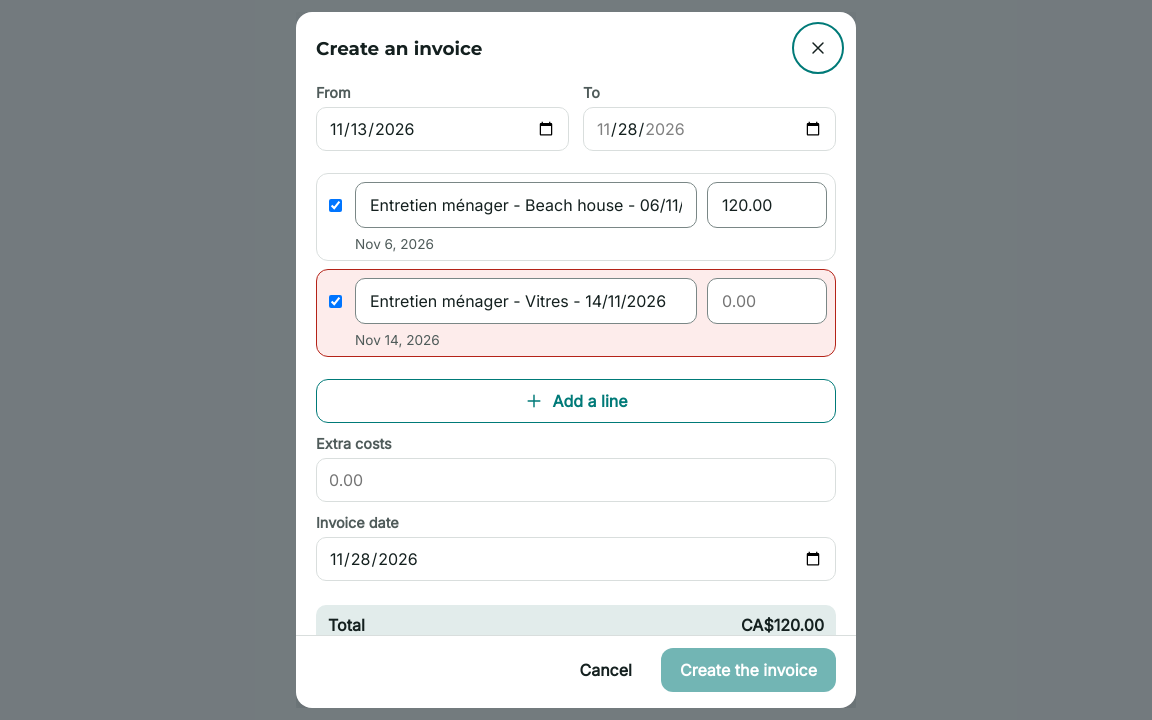
Scenario: BillDialog › takes an unticked line out of the total
Type "80" into the field named "Amount". click: coordinates (767, 301)
box: [707, 278, 827, 324]
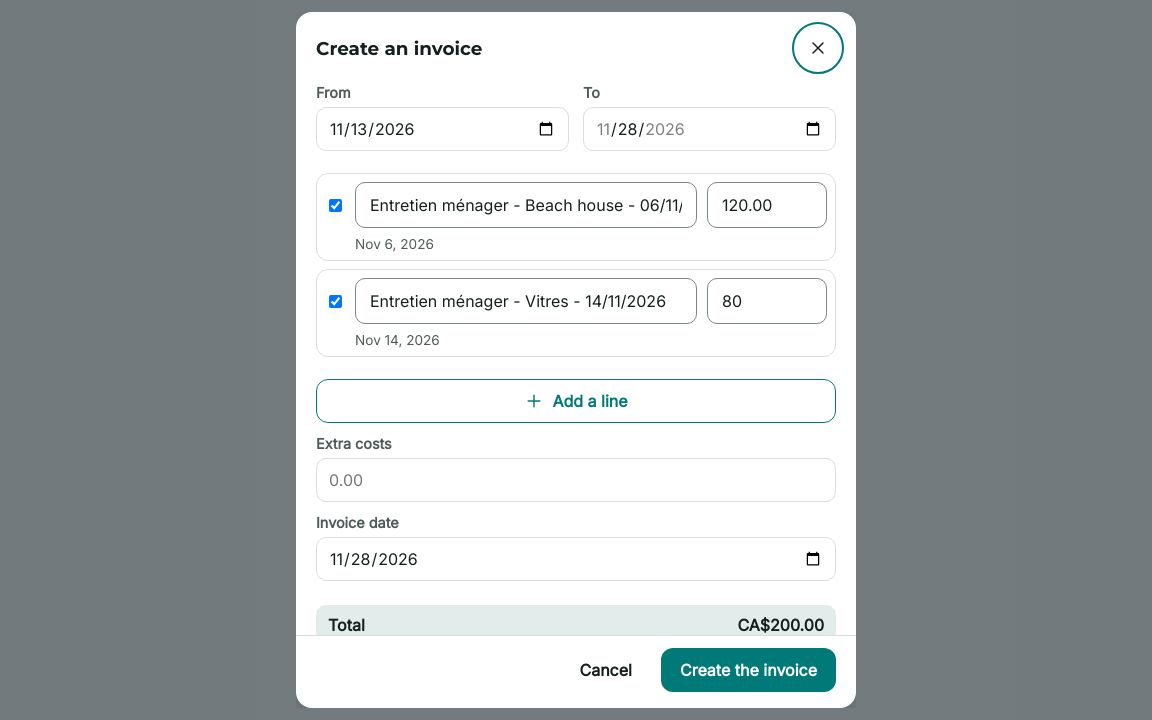
Result: the element with test id "bill-total" shows "200.00" at [737, 615, 824, 635]
Click the checkbox named "Include Nov 14, 2026". click: coordinates (336, 301)
box: [329, 294, 342, 308]
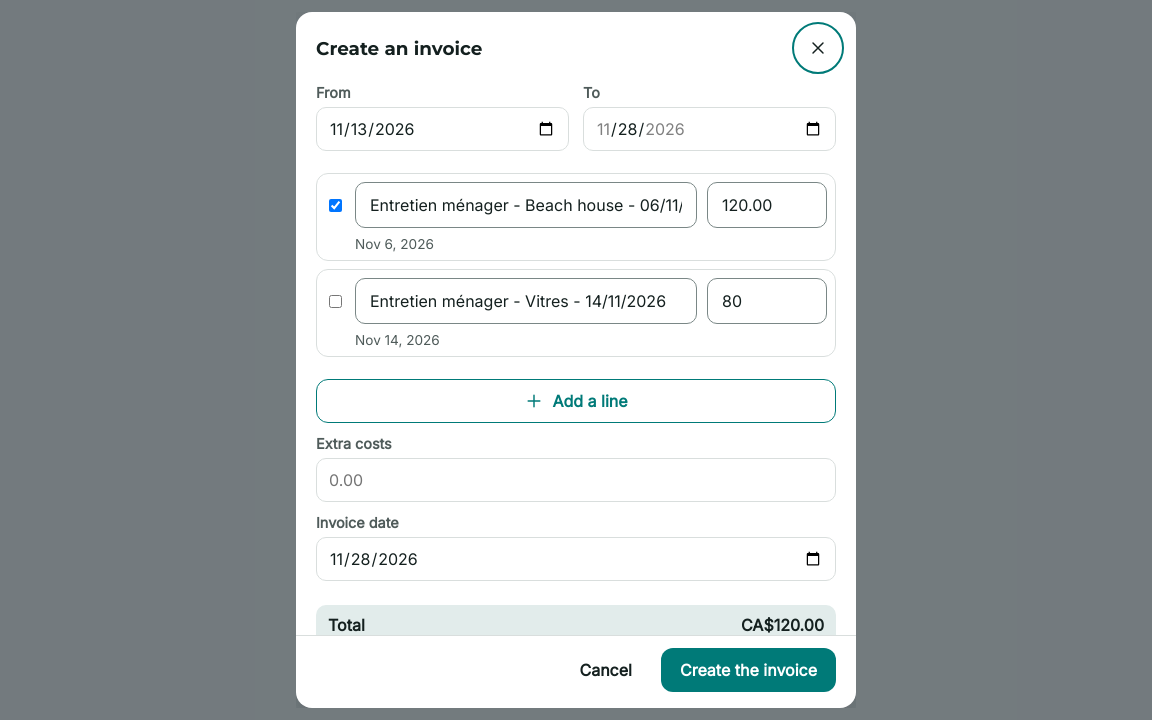
Result: the button "Create the invoice" is enabled at [661, 648, 836, 692]
Result: the element with test id "bill-total" shows "120.00" at [741, 615, 824, 635]
Click the checkbox named "Include Nov 6, 2026". click: coordinates (336, 205)
box: [329, 198, 342, 212]
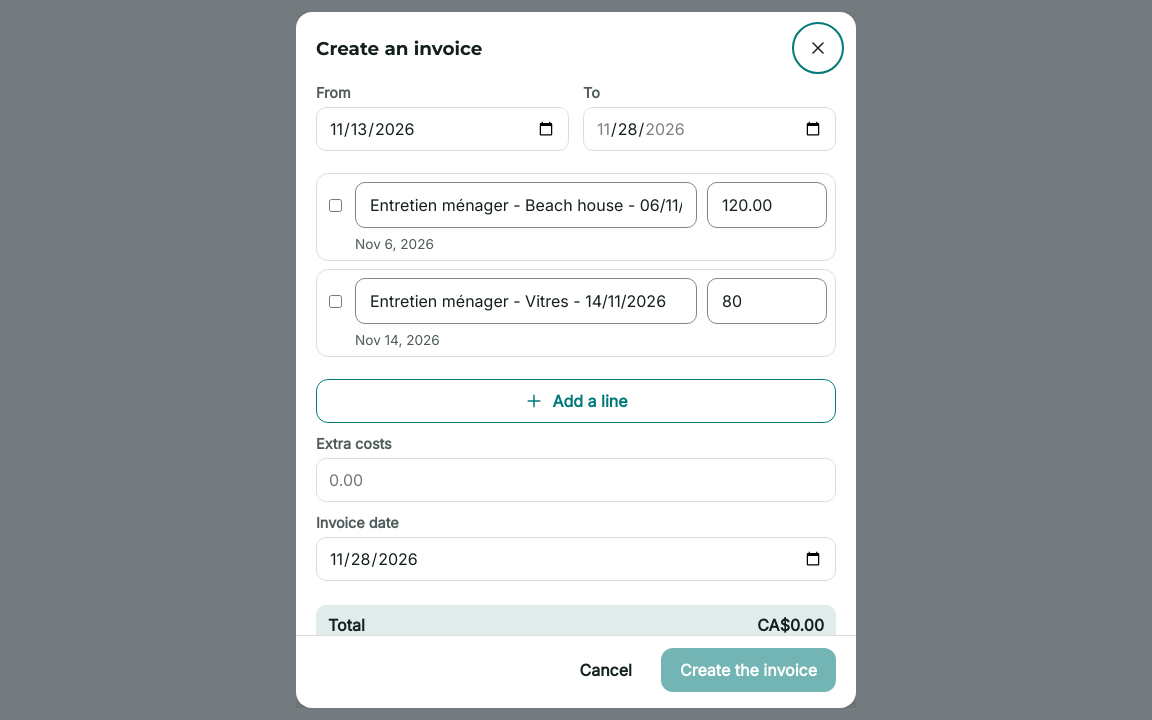
Result: the button "Create the invoice" is disabled at [661, 648, 836, 692]
